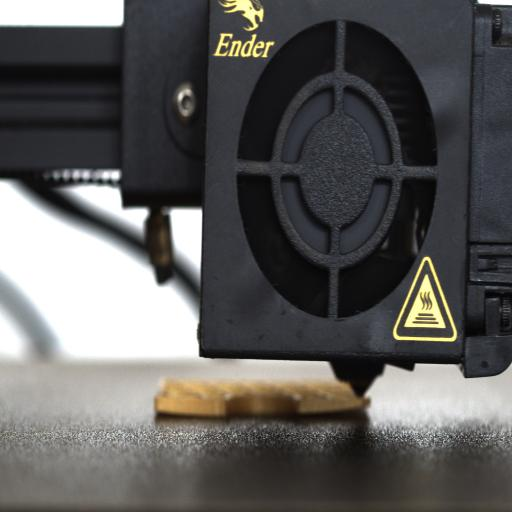warp: (294, 397, 384, 416), (148, 392, 198, 424)
